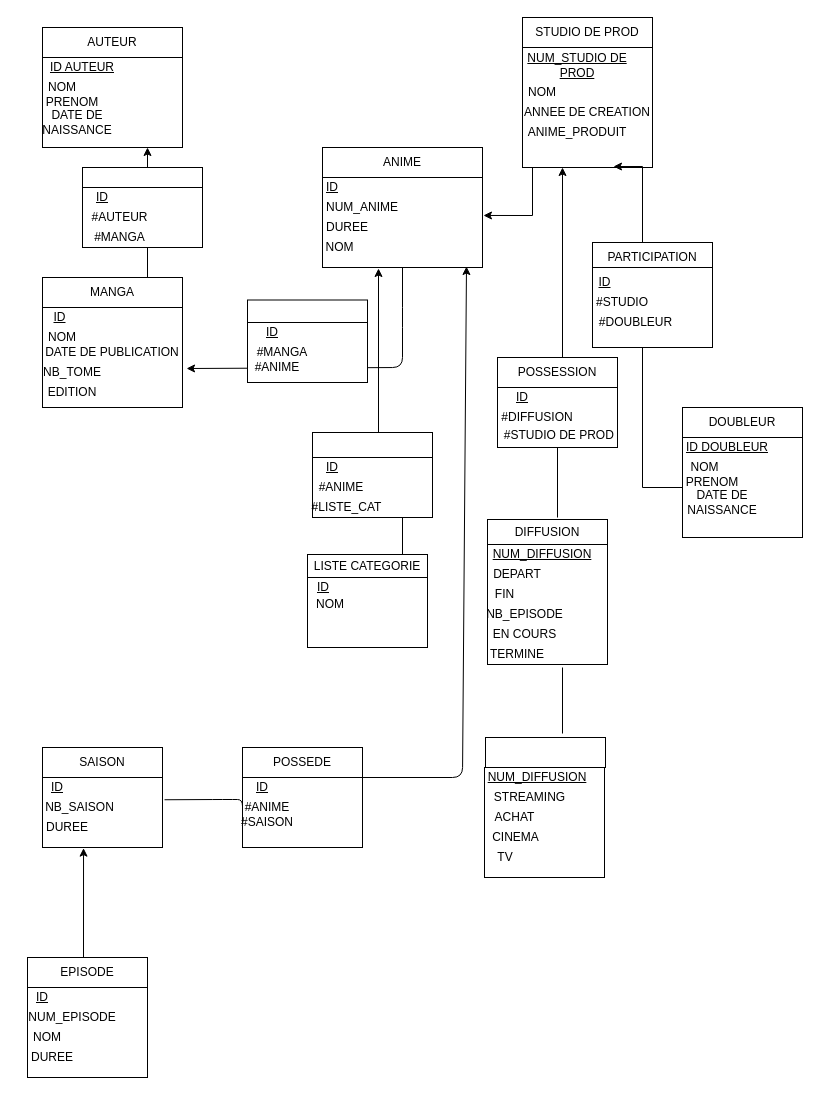
The diagram is 820 pixels wide and 1095 high, and some of its shapes have lost their labels. Each missing label, with the centre of its shape:
"ADAPTATION" goes at [307,312].
"CATEGORIES" goes at [372,445].
"CREATION" goes at [142,177].
"TYPE DE DIFFUSION" goes at [545,752].
